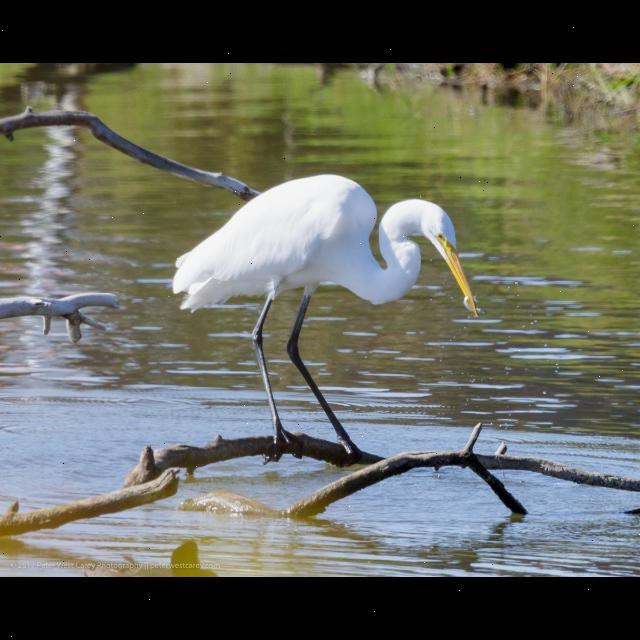egret: (164, 167, 481, 456)
